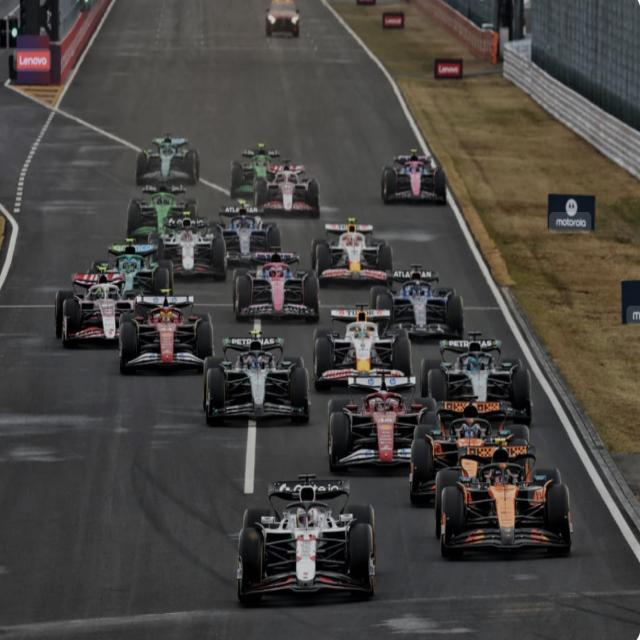Alpine: (232, 250, 321, 323), (383, 148, 446, 204)
Aston Martin: (93, 238, 174, 299), (136, 134, 199, 189)
Ferrari: (329, 374, 439, 476), (119, 289, 213, 380)
Haas: (54, 270, 141, 348), (256, 159, 320, 215)
Kick Sauber: (128, 187, 198, 244), (231, 141, 284, 208)
McLaren: (436, 439, 574, 562), (410, 393, 529, 504)
Mercedes: (204, 330, 310, 427), (422, 330, 532, 422)
Racing Bulls: (314, 305, 412, 388), (313, 216, 393, 288)
Red Bull: (237, 474, 377, 610), (150, 209, 226, 289)
Williams: (372, 263, 465, 340), (211, 202, 282, 266)
